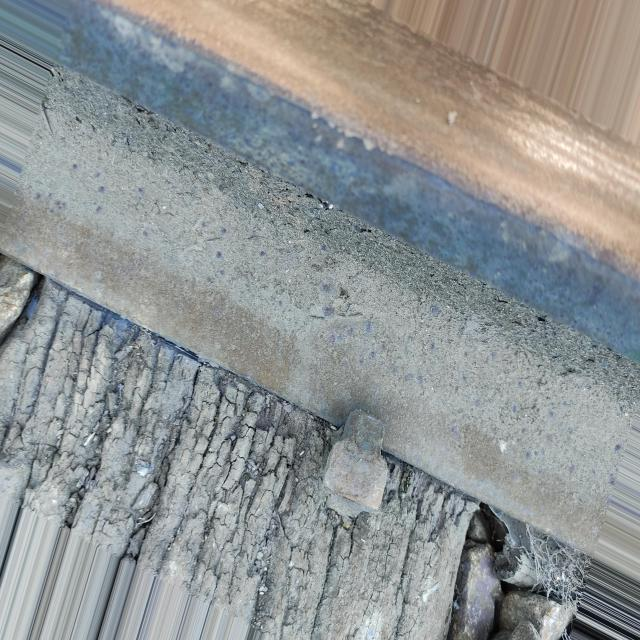Good Fasteners: (323, 410, 387, 512)
